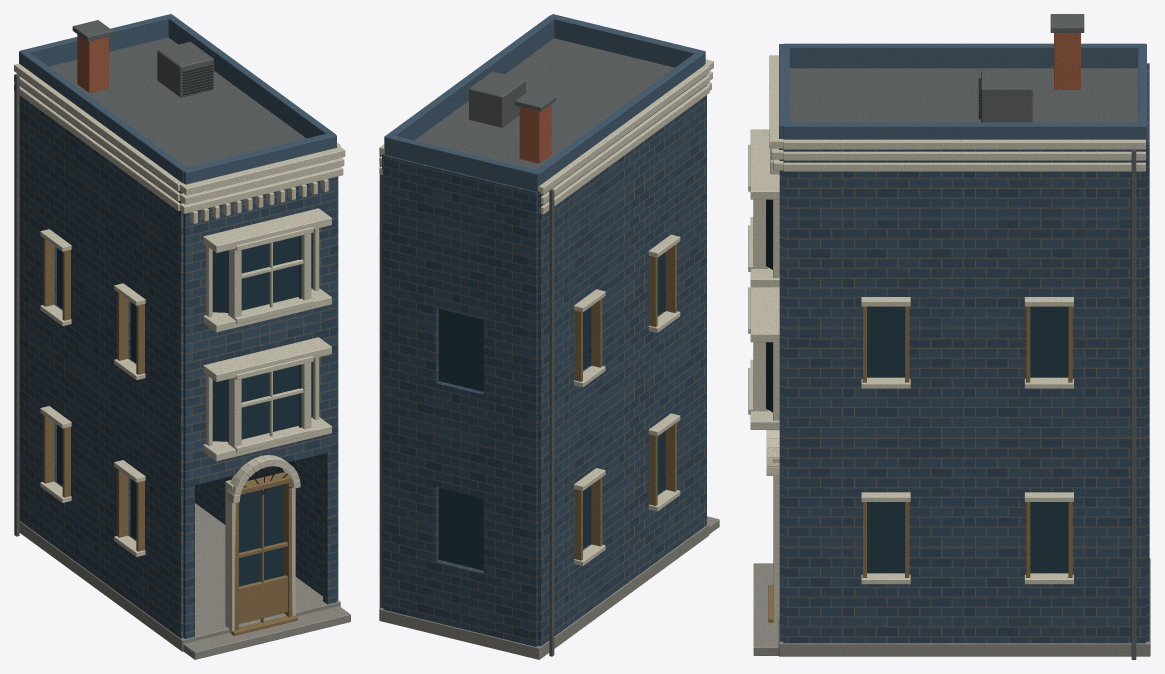
Rendered from VICT13_lod1.glb.
3 renders of one model, left to right at view 1: azimuth 30°, elevation 25°; view 2: azimuth 150°, elevation 25°; view 3: azimuth 270°, elevation 25°, orthographic. The views are drawn at different scales.
Visible parts, largest first — view 1: VICT13_LOD1; view 2: VICT13_LOD1; view 3: VICT13_LOD1.
Part boxes in pixels (x1=…): VICT13_LOD1: x1=14, y1=14, x2=350, y2=659; VICT13_LOD1: x1=379, y1=14, x2=719, y2=659; VICT13_LOD1: x1=748, y1=14, x2=1150, y2=659.
Size of the model in its own units: 3.71 by 10.45 by 6.65.
10 materials, 8 textured.
